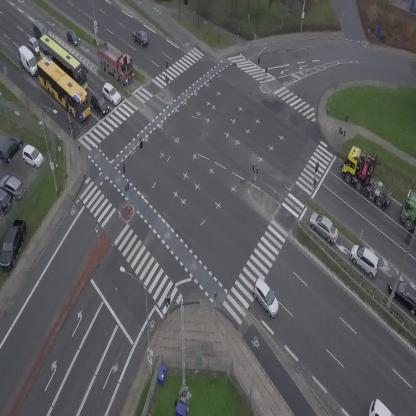bus: (28, 53, 100, 123), (29, 32, 97, 94)
car: (246, 275, 287, 319), (344, 241, 386, 280), (305, 209, 344, 245), (98, 80, 124, 107), (87, 91, 112, 118), (61, 27, 83, 49), (130, 26, 151, 47), (369, 399, 394, 416), (30, 19, 48, 38), (28, 36, 37, 55)
lorry: (333, 141, 408, 210), (88, 36, 142, 87), (12, 43, 43, 79), (401, 191, 416, 231)
